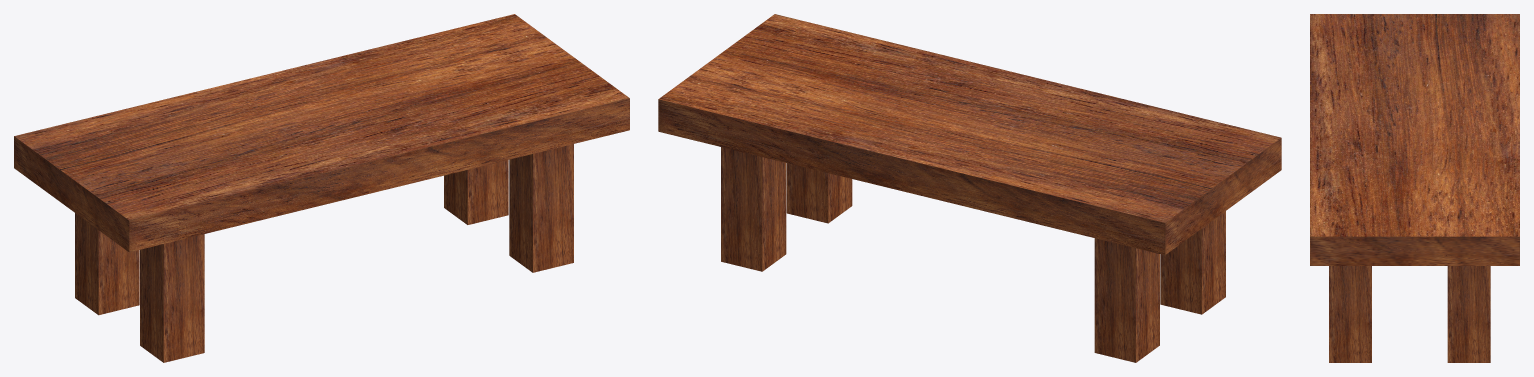
Rendered from living_room_table.dae.
3 views of the same model, side by side, from view 1: azimuth 30°, elevation 25°; view 2: azimuth 150°, elevation 25°; view 3: azimuth 270°, elevation 25° (orthographic). The views are drawn at different scales.
Visible parts, largest first — view 1: Cube, Cube_001; view 2: Cube, Cube_001; view 3: Cube, Cube_001.
Boxes of the visible parts, x1,y1,x2,y2 form: Cube: [14, 14, 629, 252]; Cube_001: [75, 144, 573, 362]; Cube: [658, 14, 1281, 255]; Cube_001: [721, 147, 1225, 362]; Cube: [1310, 14, 1519, 265]; Cube_001: [1329, 266, 1490, 362].
Bounding box in the file's own units: 5.02 × 2 × 1.54.
2 materials, 2 textured.
